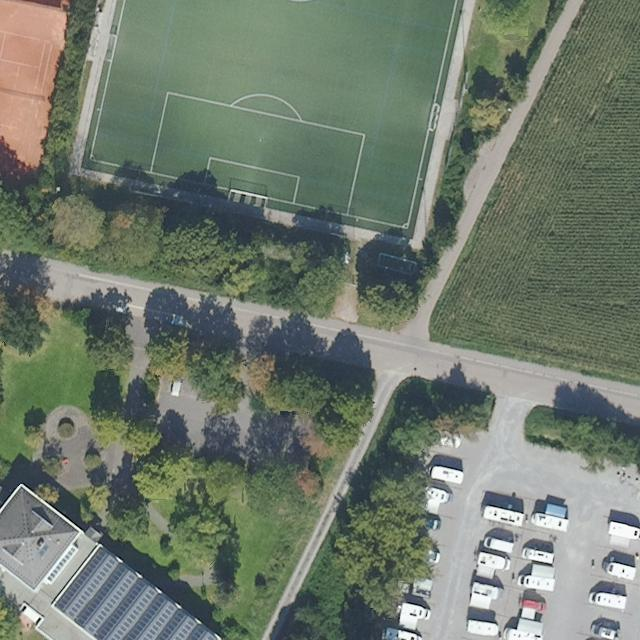PV: (50, 544, 226, 639)
